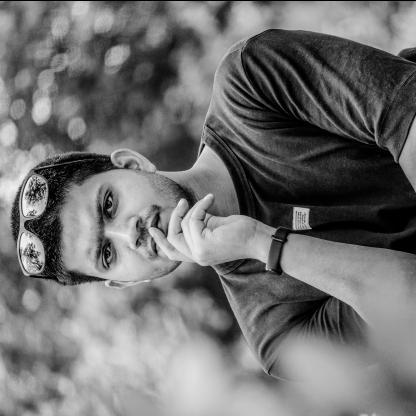Eye: (102, 188, 118, 219), (100, 241, 115, 270)
Mouth: (148, 212, 165, 254)
Nose: (108, 214, 142, 248)
